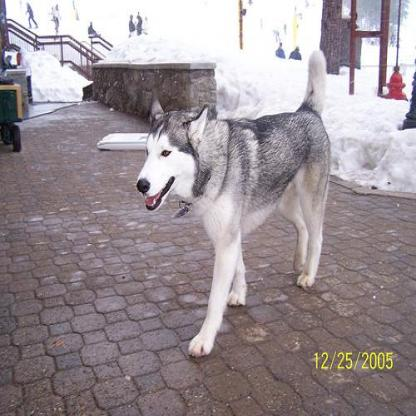Siberian_husky: (136, 49, 332, 358)
